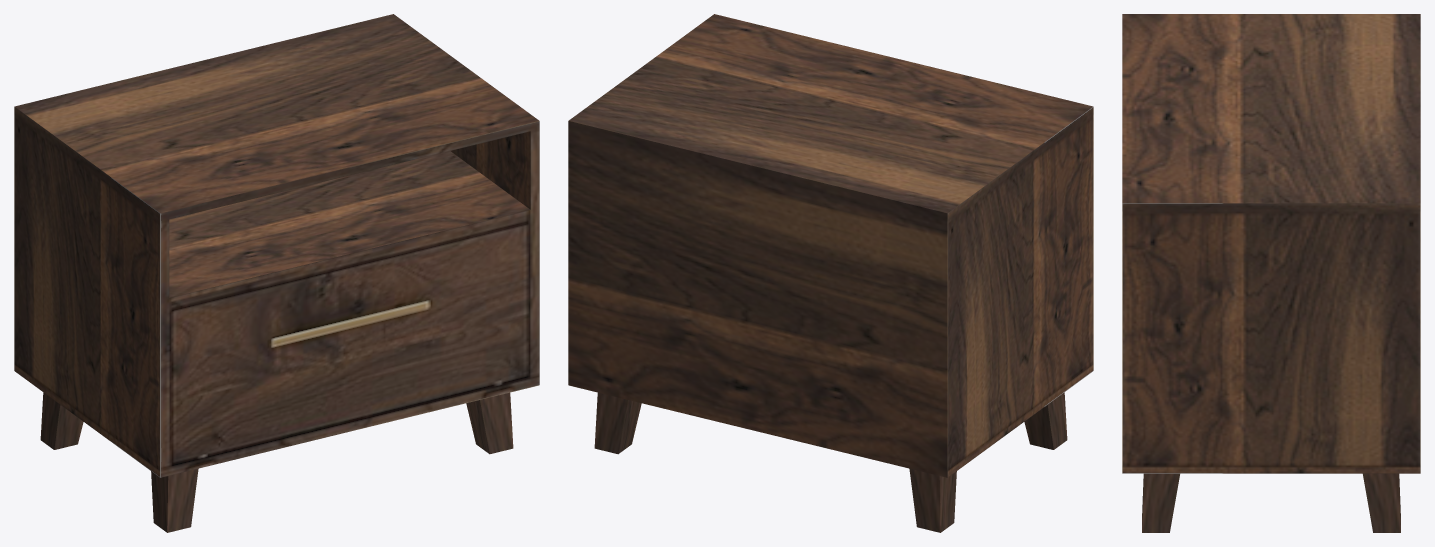
Rendered from Nightstand.glb.
The picture shows the model from 3 angles, left to right: view 1: azimuth 30°, elevation 25°; view 2: azimuth 150°, elevation 25°; view 3: azimuth 270°, elevation 25°; orthographic projection. The views are drawn at different scales.
Visible parts, largest first — view 1: nightstand-col; view 2: nightstand-col; view 3: nightstand-col.
Boxes of the visible parts, x1=… form: nightstand-col: x1=14, y1=14, x2=539, y2=532; nightstand-col: x1=568, y1=14, x2=1093, y2=532; nightstand-col: x1=1122, y1=14, x2=1420, y2=532.
Bounding box in the file's own units: 0.81 × 0.675 × 0.54.
Materials: 1 (1 with a texture image).
